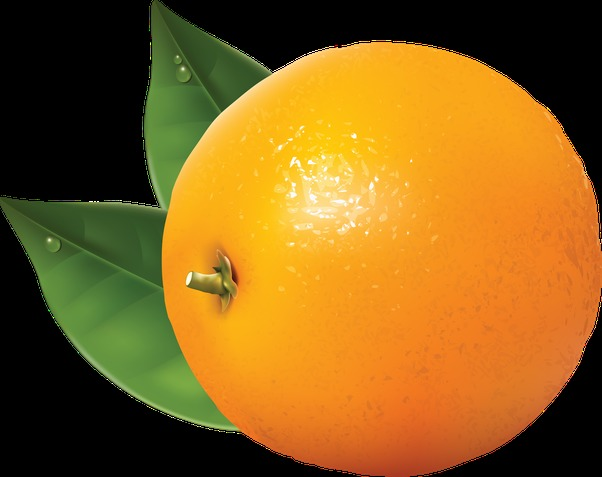orange: (164, 36, 595, 477)
